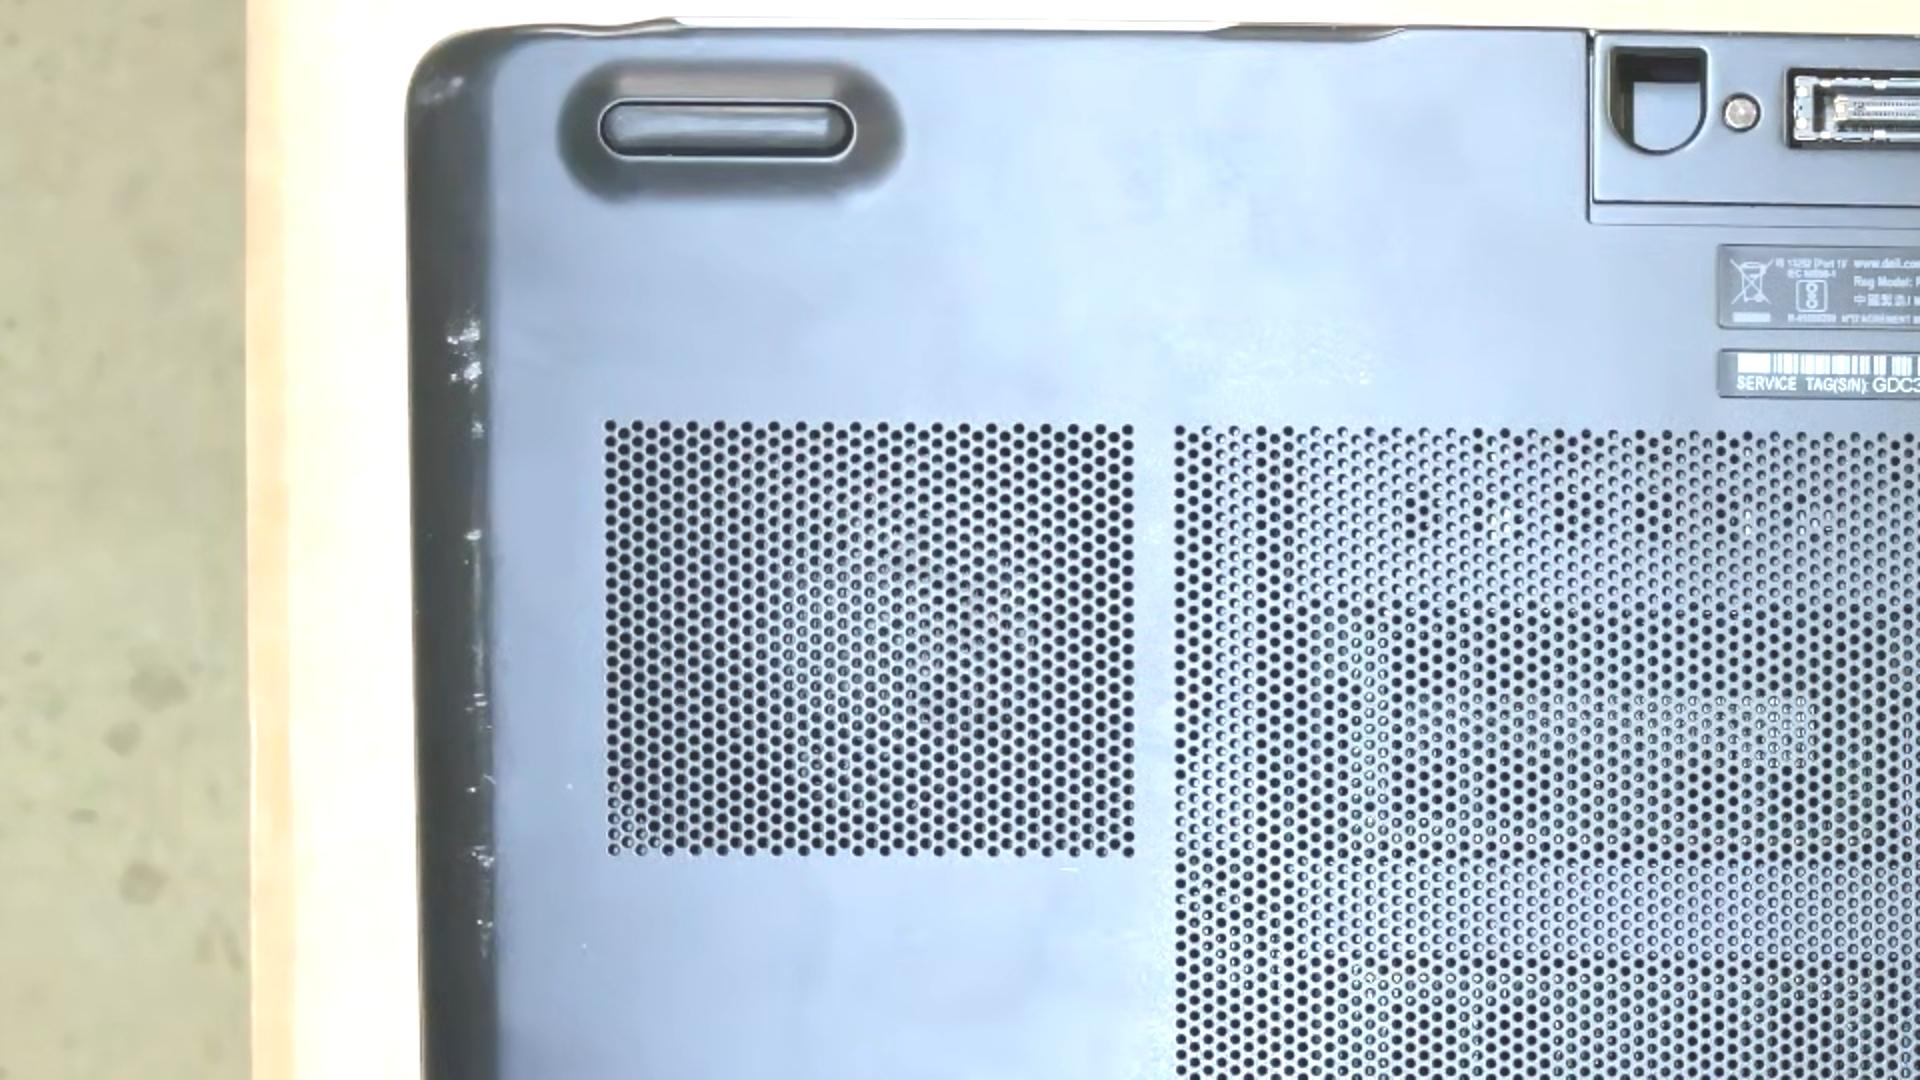chip: (446, 319, 484, 349), (448, 357, 483, 386), (467, 841, 495, 869), (469, 418, 486, 440), (463, 529, 483, 544), (475, 917, 494, 930), (467, 786, 477, 795), (462, 557, 470, 566)
scratches: (412, 68, 466, 108), (481, 772, 500, 788), (1057, 866, 1081, 872), (472, 700, 489, 706), (471, 692, 487, 698)
